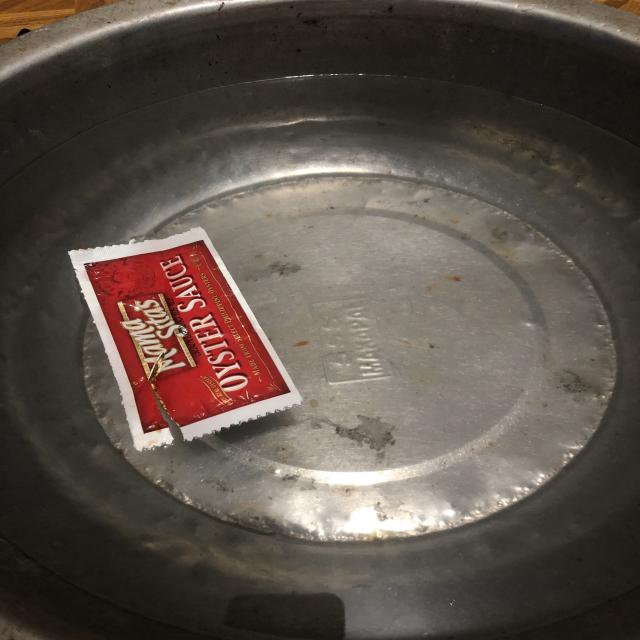Plastic Wrapper: (69, 227, 302, 450)
